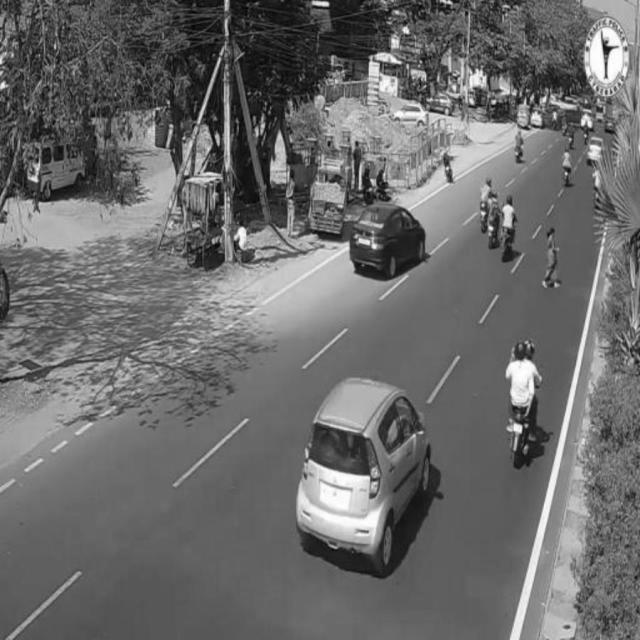person: (542, 223, 564, 287), (285, 165, 300, 242)
vehicle: (297, 370, 434, 585), (351, 201, 427, 279), (504, 337, 541, 471), (502, 192, 519, 263), (486, 190, 501, 246), (479, 176, 491, 232), (587, 136, 604, 166), (562, 146, 572, 188)
